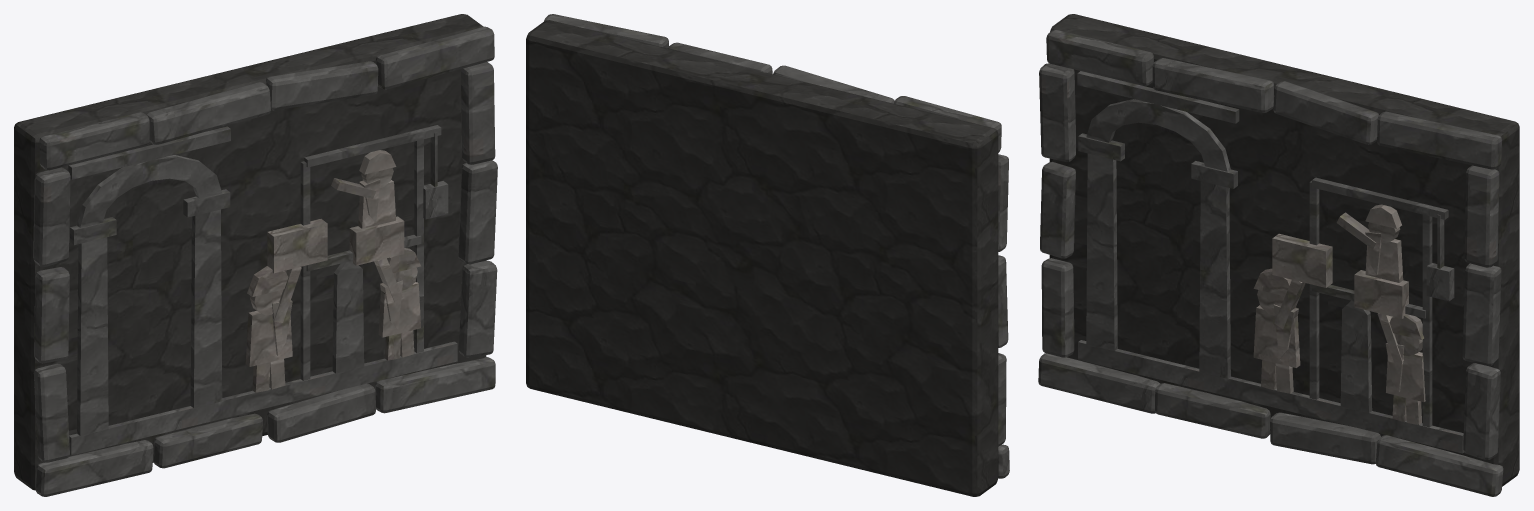
The model's file is wall_carving_2.glb.
3 views of the same model, side by side, from view 1: azimuth 30°, elevation 25°; view 2: azimuth 150°, elevation 25°; view 3: azimuth 330°, elevation 25° (orthographic).
Parts seen in each view (by area): view 1: model; view 2: model; view 3: model.
Boxes of the visible parts, bbox=[...] form: model: bbox=[14, 14, 497, 496]; model: bbox=[526, 14, 1009, 496]; model: bbox=[1038, 14, 1519, 496].
Bounding box in the file's own units: 1.62 × 1.22 × 0.2051.
Materials: 3 (3 with a texture image).
